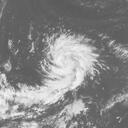cyclone: (40, 30, 99, 85)
